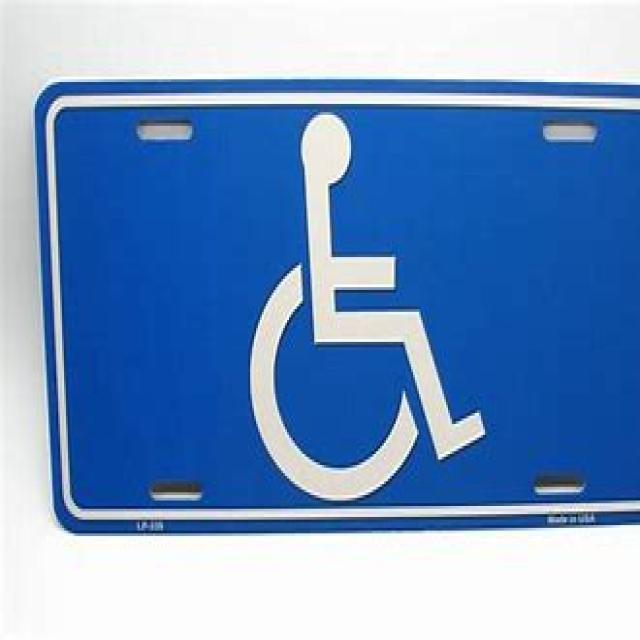symbol_of_access: (248, 112, 486, 504)
